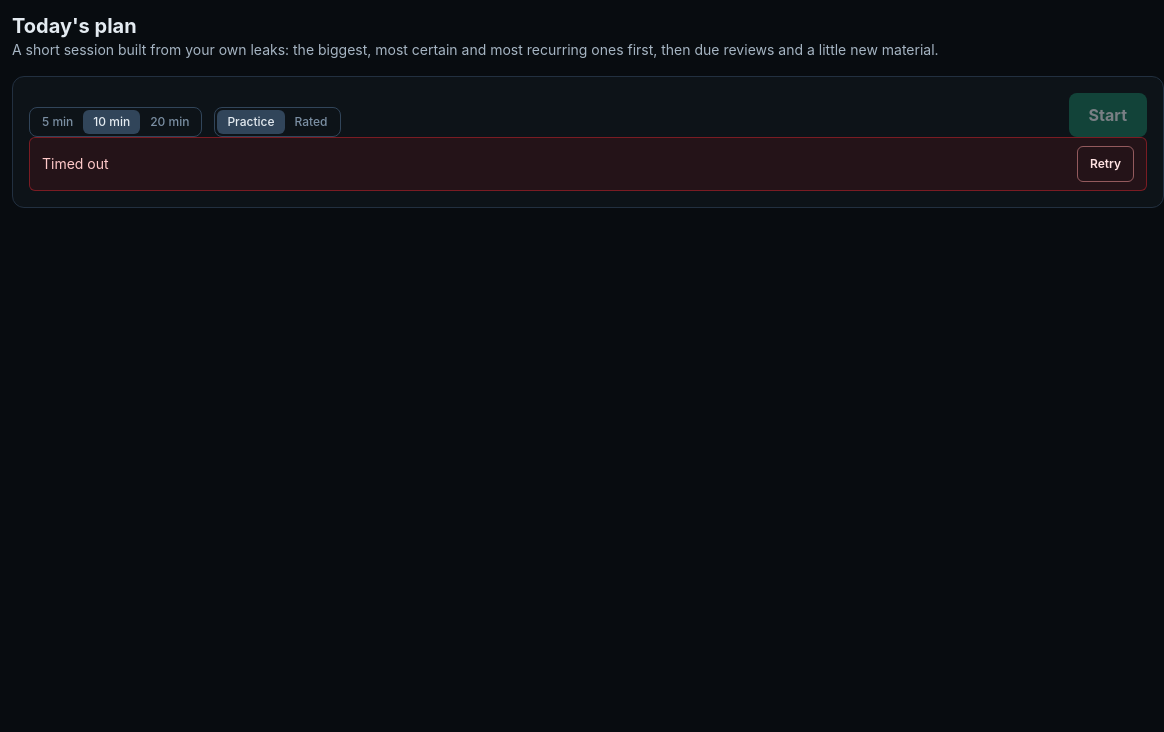
Test: replaces failed loading with a working retry
Click the button "Retry" at point(1106, 164), box [1077,146,1134,182]
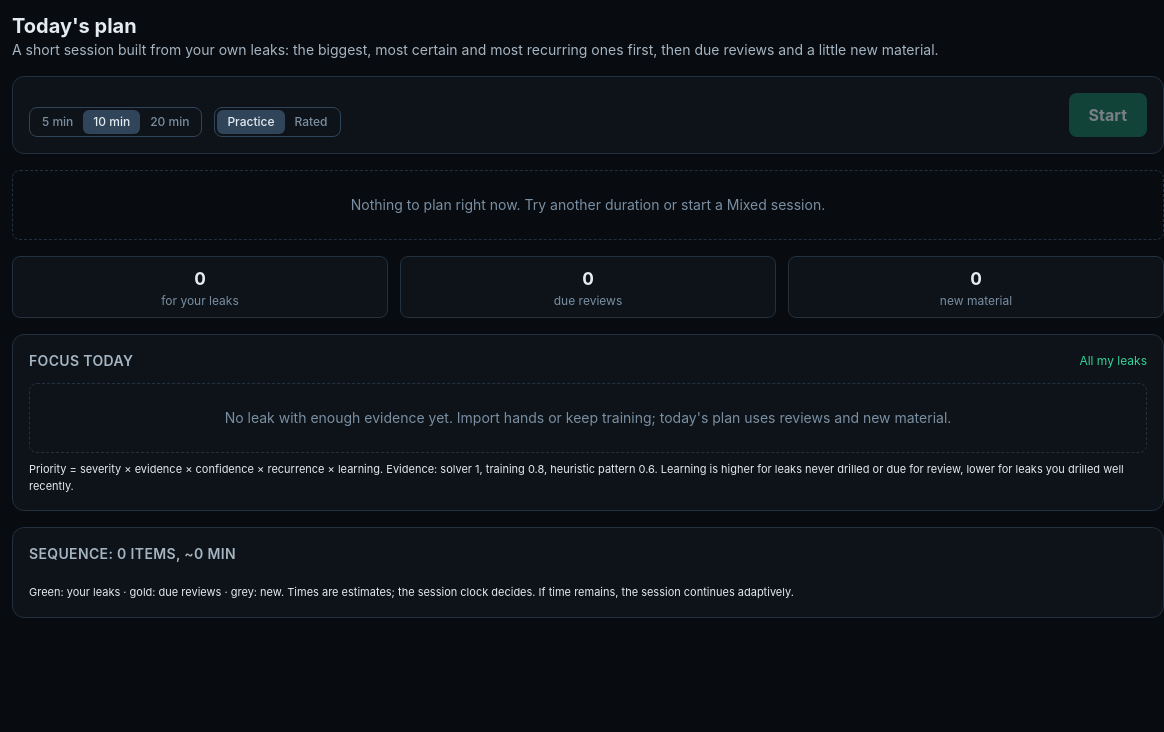
Expected: the button with test id "today-start" is disabled, [1069,93,1147,137]
Expected: the text "Timed out" is gone
Expected: the message "Timed out Retry" is gone
